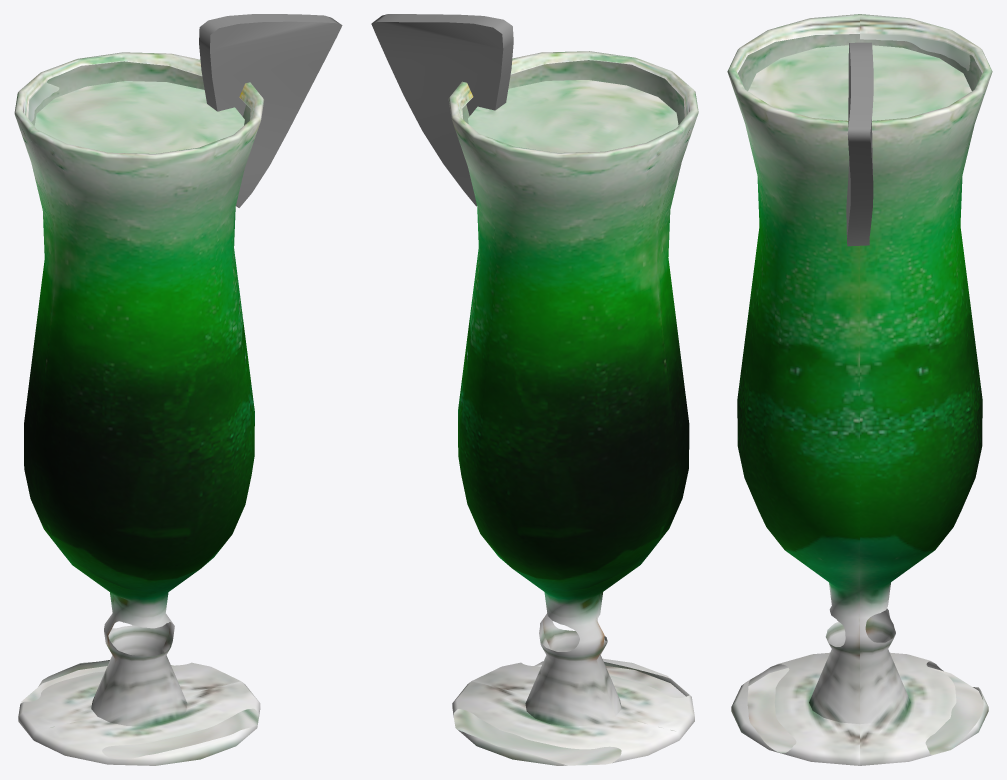
Rendered from Cocktail01_3.FBX.
3 renders of one model, left to right at view 1: azimuth 30°, elevation 25°; view 2: azimuth 150°, elevation 25°; view 3: azimuth 270°, elevation 25°, orthographic. The views are drawn at different scales.
Parts seen in each view (by area): view 1: Cocktail01_3; view 2: Cocktail01_3; view 3: Cocktail01_3.
Part boxes in pixels (<box>): Cocktail01_3: <box>14,14,342,765</box>; Cocktail01_3: <box>371,14,698,765</box>; Cocktail01_3: <box>727,14,992,765</box>.
Size of the model in its own units: 10.56 by 22.12 by 7.52.
